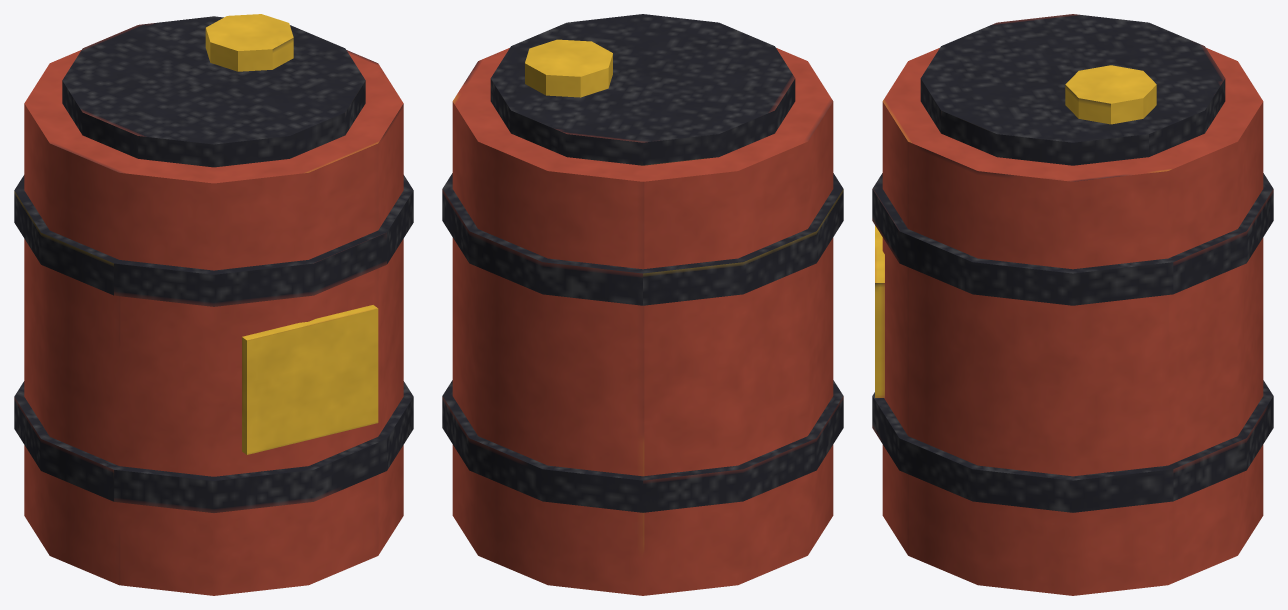
Rendered from oil_barrel.fbx.
3 views of the same model, side by side, from view 1: azimuth 30°, elevation 25°; view 2: azimuth 150°, elevation 25°; view 3: azimuth 270°, elevation 25° (orthographic).
Visible parts, largest first — view 1: Oil_barrel; view 2: Oil_barrel; view 3: Oil_barrel.
Part boxes in pixels (x1,y1,x2,y2): Oil_barrel: (14, 14, 413, 595); Oil_barrel: (442, 14, 843, 595); Oil_barrel: (872, 14, 1273, 595).
Size of the model in its own units: 1.58 by 1.99 by 1.58.
1 material, 1 textured.
